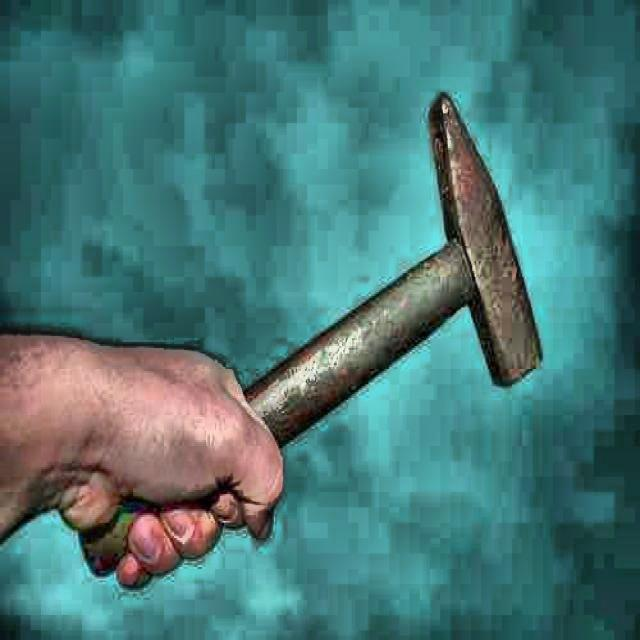hammer: (258, 90, 545, 436)
